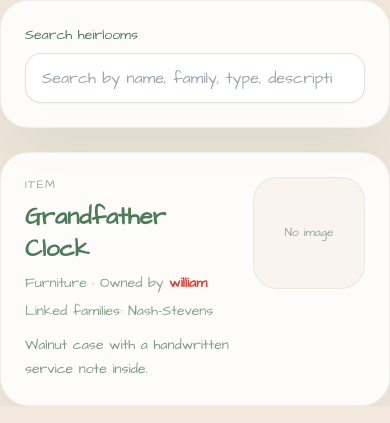
Test: ItemsPageContent › shows an empty filtered state when no items match the search term
Type "not-in-the-archive" into the search field labelled "Search heirlooms". click: (195, 78)
box: [25,53,365,103]
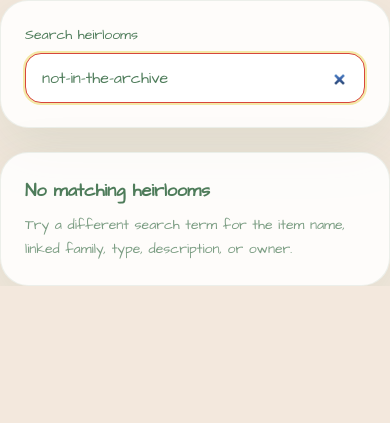
Expected: the text "No matching heirlooms" is shown, [25,178,210,203]
Expected: the link "Grandfather Clock" is gone
